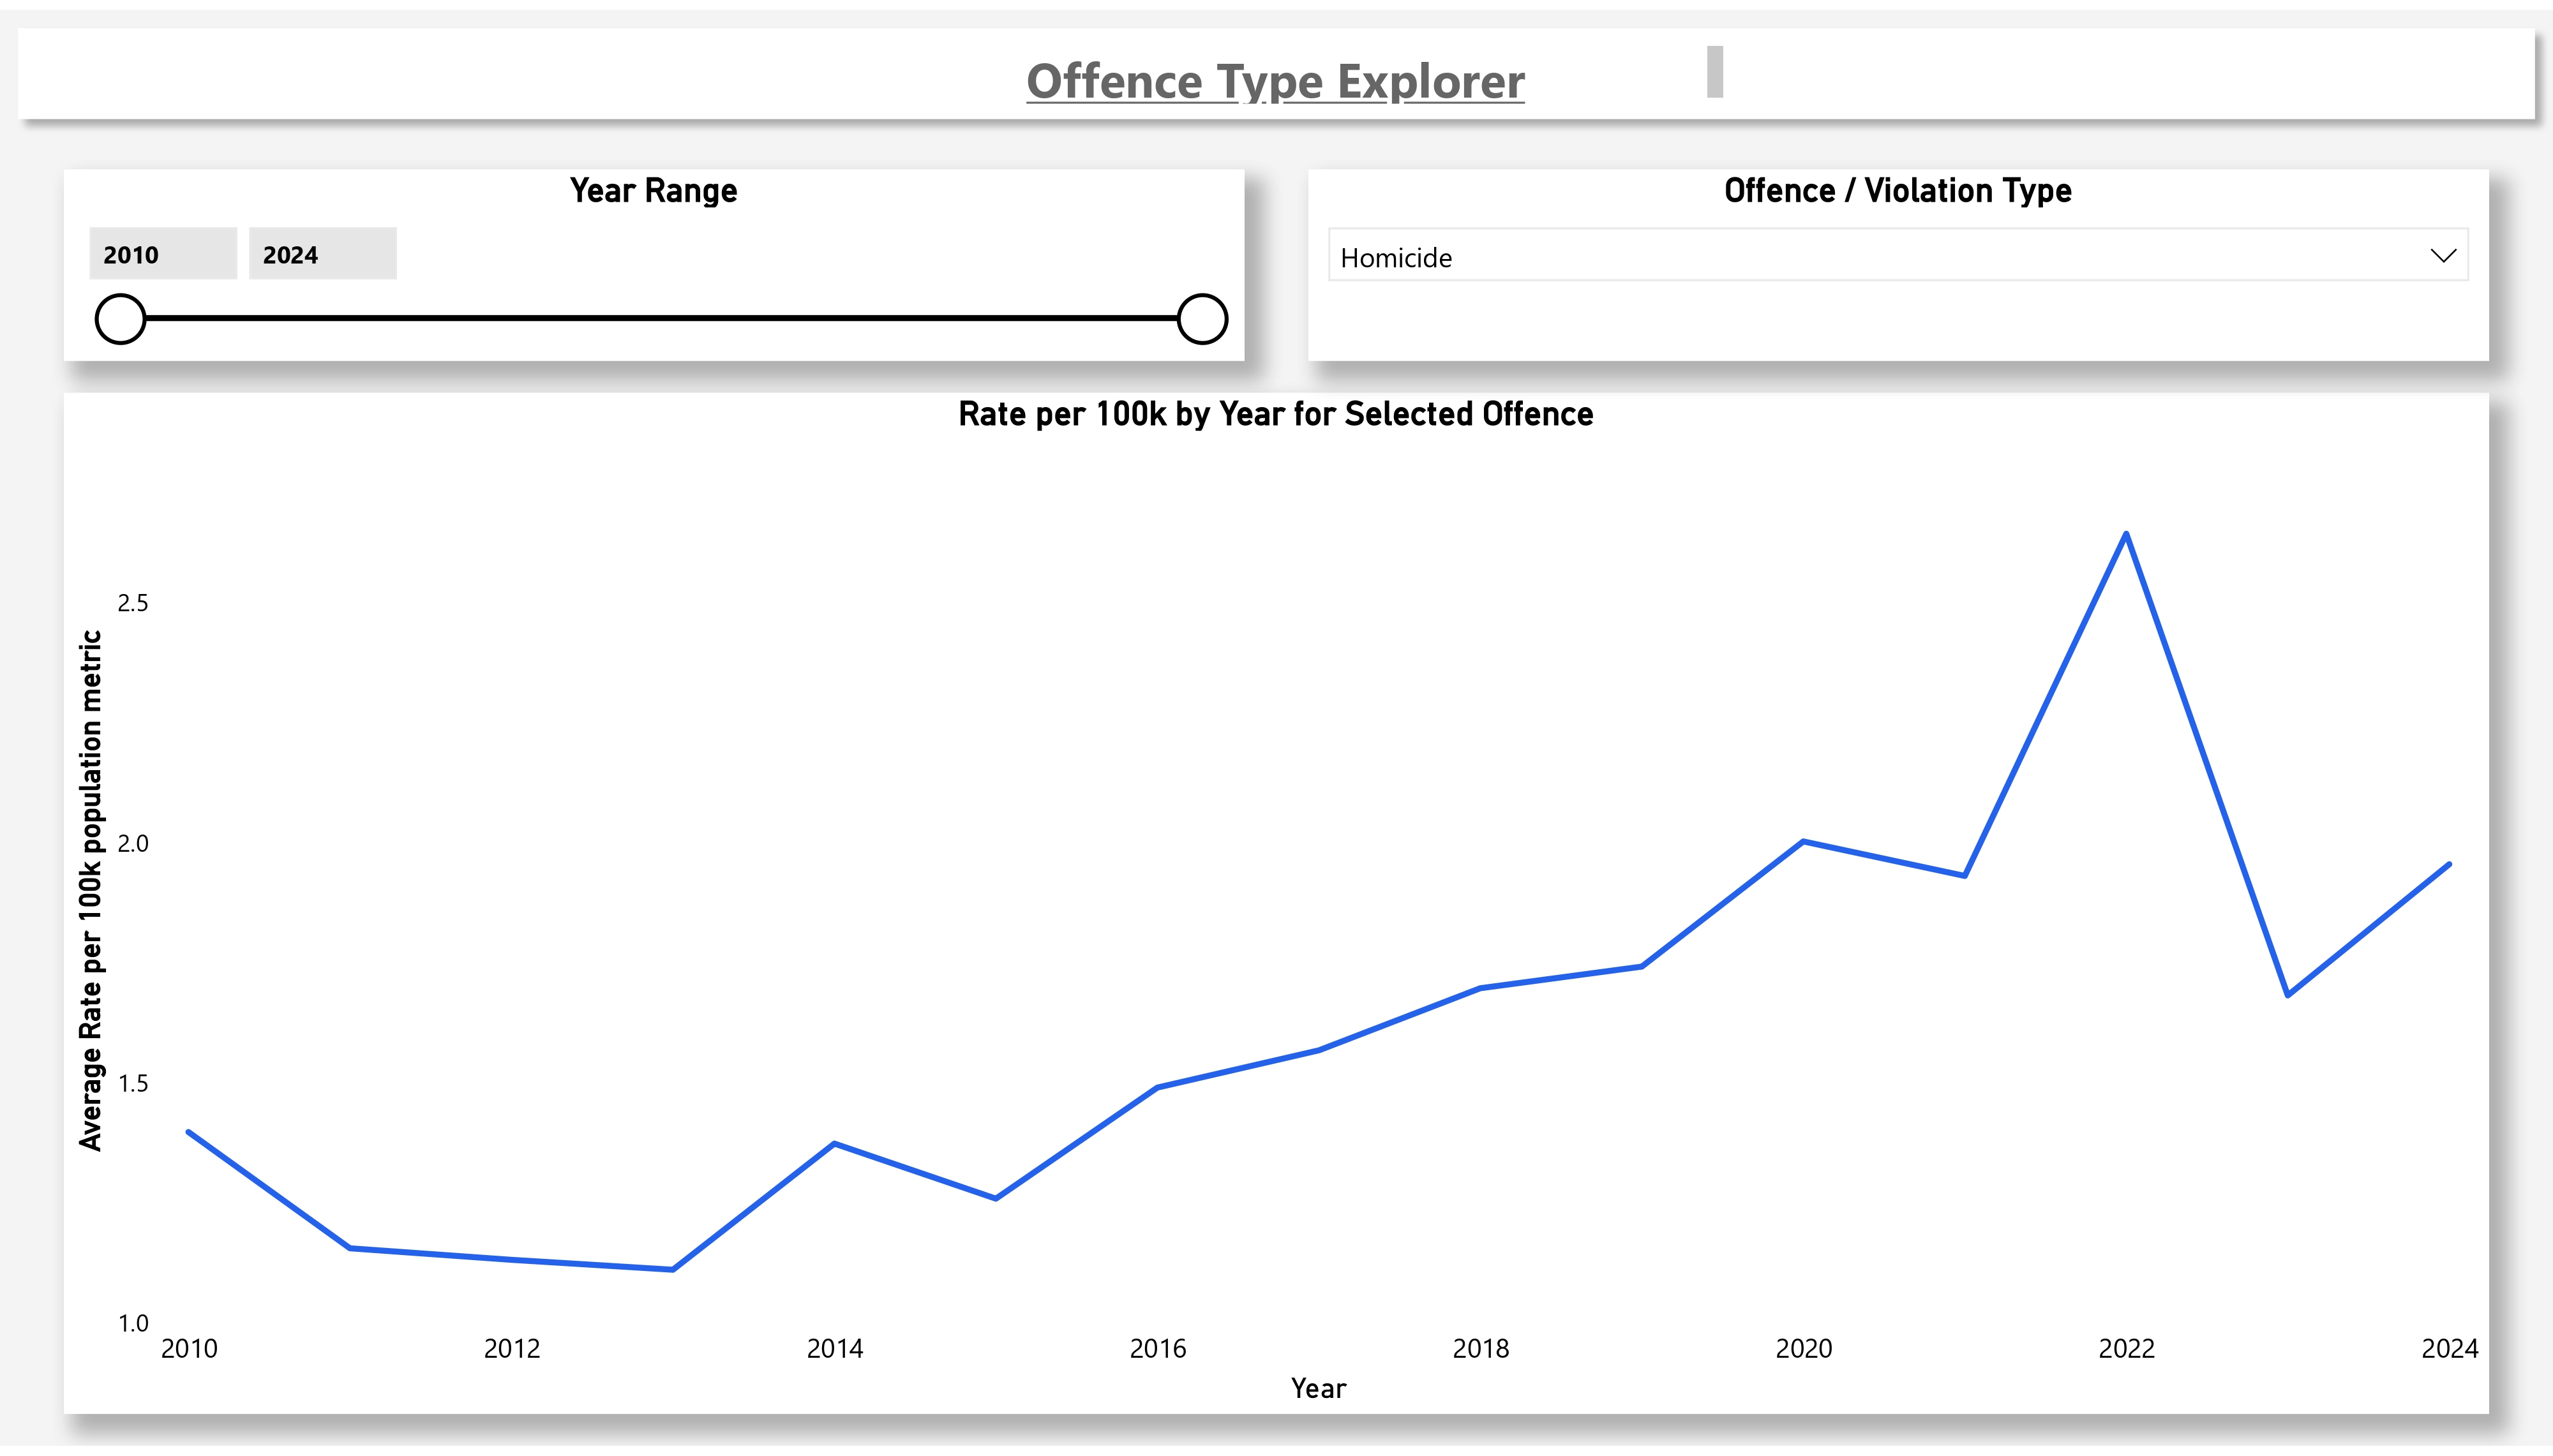

The page's visual inventory and layout, read from the dashboard file:
{"tool":"powerbi","page":{"name":"Offence Type Explorer","canvas":[1280,720],"ordinal":5},"visuals":[{"type":"shape","box":[0,0,1280,63.8],"z":0},{"type":"textbox","box":[417.5,12.5,451.2,38.8],"z":1000},{"type":"slicer","title":"Year Range","fields":{"Values":["Calendar.Year"]},"box":[32,80,592,96],"z":2000},{"type":"lineChart","title":"Rate per 100k by Year for Selected Offence","fields":{"Category":["Calendar.Year"],"Y":["Avg(crime_violations.Rate per 100_000 population metric)"]},"box":[32,192,1216,512],"z":3000},{"type":"slicer","title":"Offence / Violation Type","fields":{"Values":["crime_violations.Violations"]},"box":[656,80,592,96],"z":4000}]}

Visuals, with their boxes in screenshot pixels (x1, y1, x2, y2), scaled from the page's 1280x720 canvas onto the 2553x1456 screenshot:
shape: <bbox>0, 0, 2552, 129</bbox>
textbox: <bbox>833, 26, 1733, 104</bbox>
"Year Range" slicer: <bbox>64, 162, 1245, 356</bbox>
"Rate per 100k by Year for Selected Offence" lineChart: <bbox>64, 389, 2489, 1423</bbox>
"Offence / Violation Type" slicer: <bbox>1308, 162, 2489, 356</bbox>
